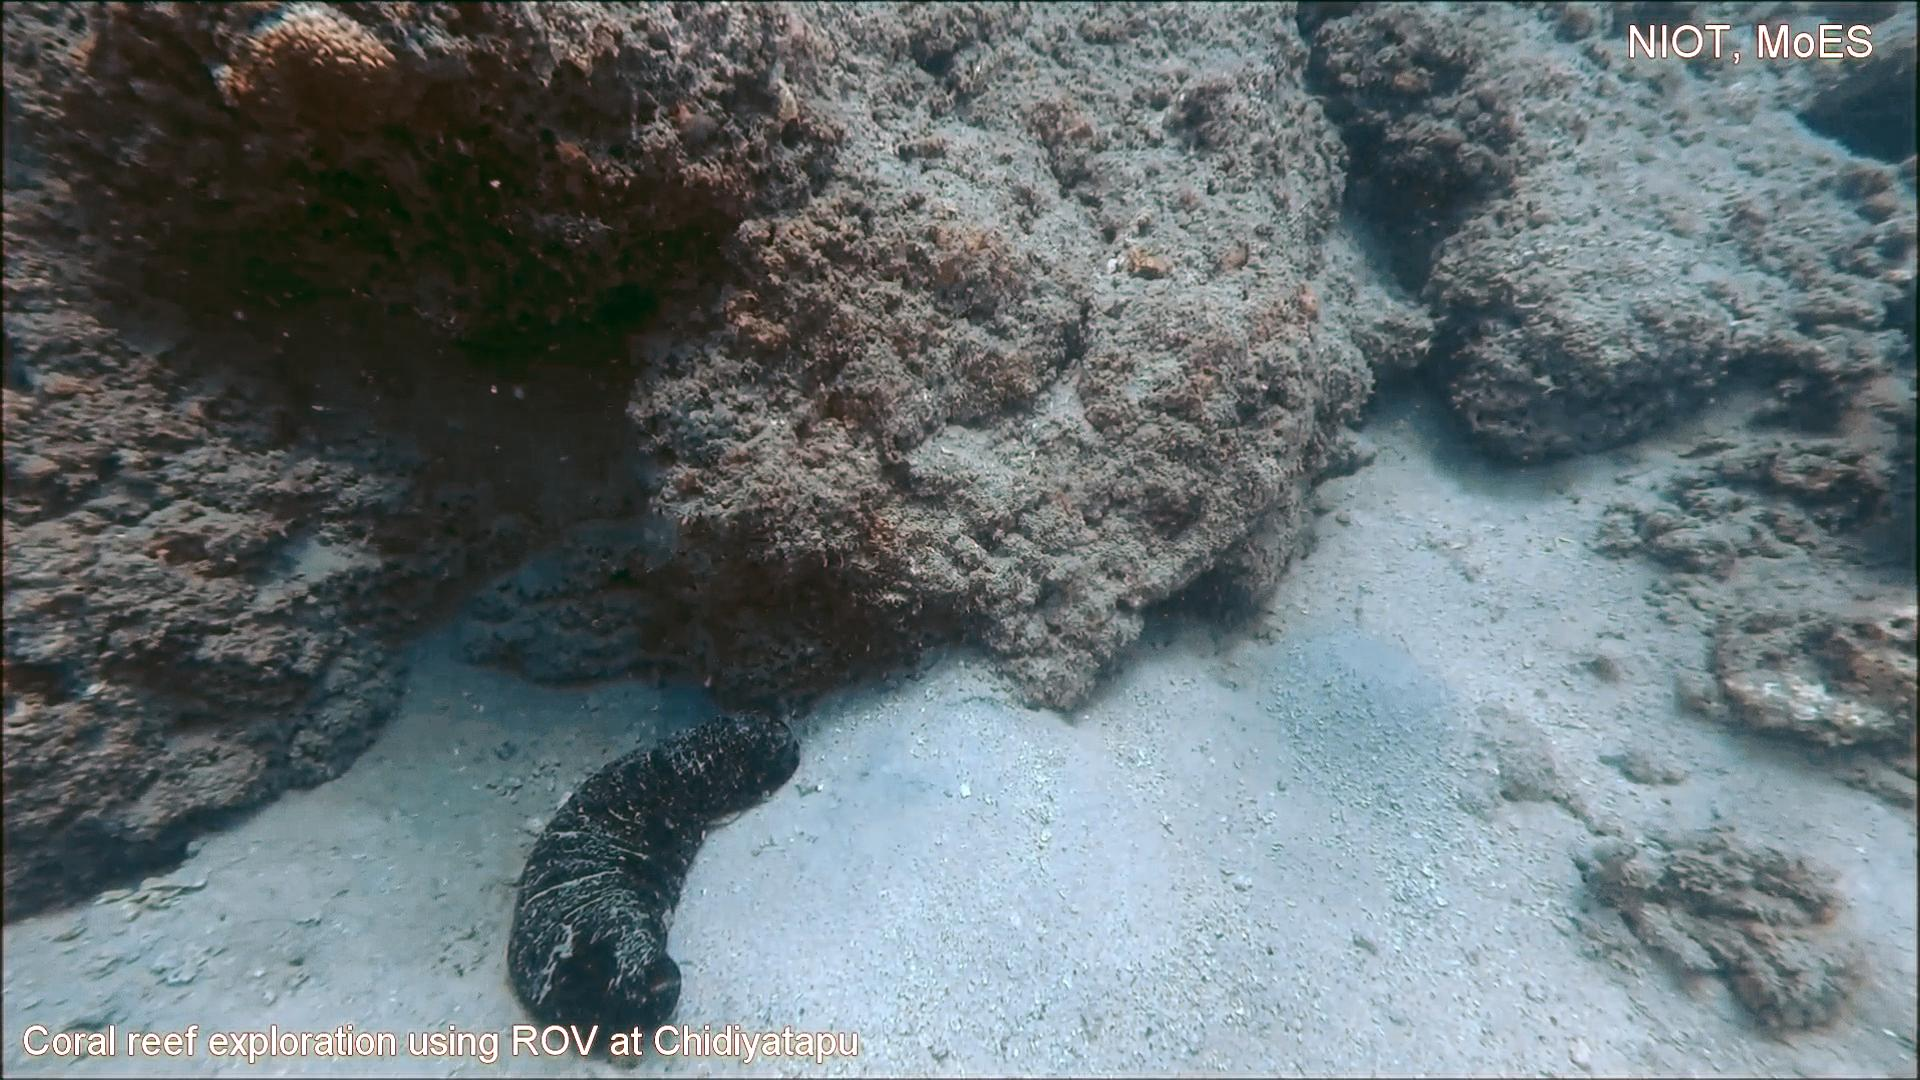Montastraea: (210, 0, 411, 171)
